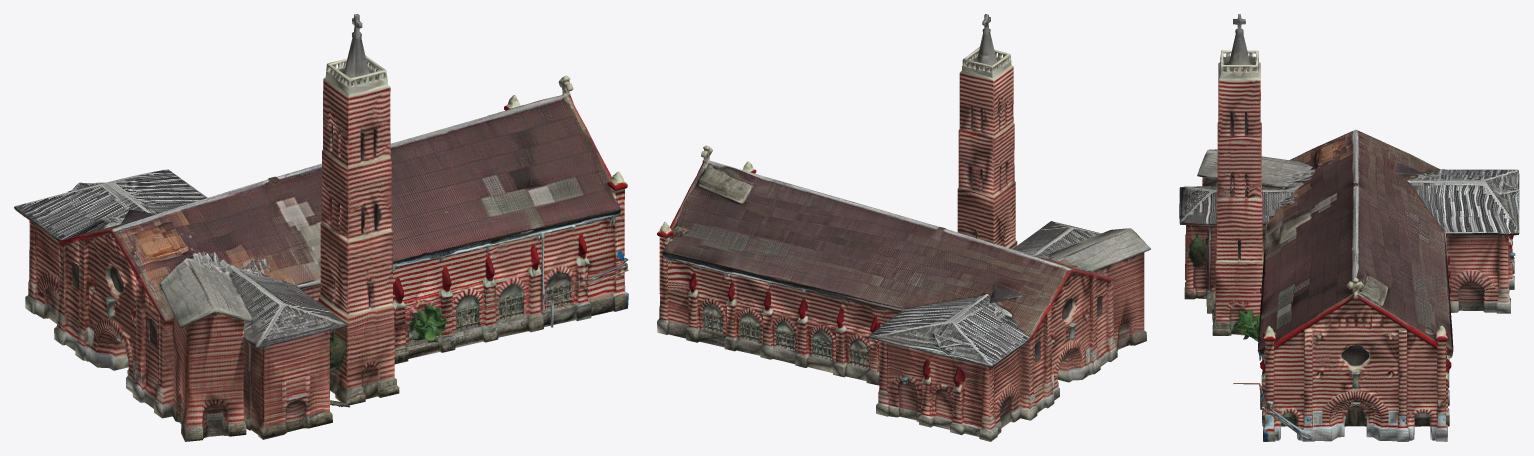
File: cathedrale.glb
3 renders of one model, left to right at view 1: azimuth 30°, elevation 25°; view 2: azimuth 150°, elevation 25°; view 3: azimuth 270°, elevation 25°, orthographic. The views are drawn at different scales.
Parts seen in each view (by area): view 1: tripo_node_c273211f-962a-40c0-ba1e-74cd65cb6aff; view 2: tripo_node_c273211f-962a-40c0-ba1e-74cd65cb6aff; view 3: tripo_node_c273211f-962a-40c0-ba1e-74cd65cb6aff.
Part boxes in pixels (left/top/right/bottom): tripo_node_c273211f-962a-40c0-ba1e-74cd65cb6aff: left=14, top=14, right=628, bottom=441; tripo_node_c273211f-962a-40c0-ba1e-74cd65cb6aff: left=657, top=14, right=1150, bottom=441; tripo_node_c273211f-962a-40c0-ba1e-74cd65cb6aff: left=1179, top=14, right=1519, bottom=441.
Bounding box in the file's own units: 0.9995 × 0.7446 × 0.7366.
1 material, 1 textured.
